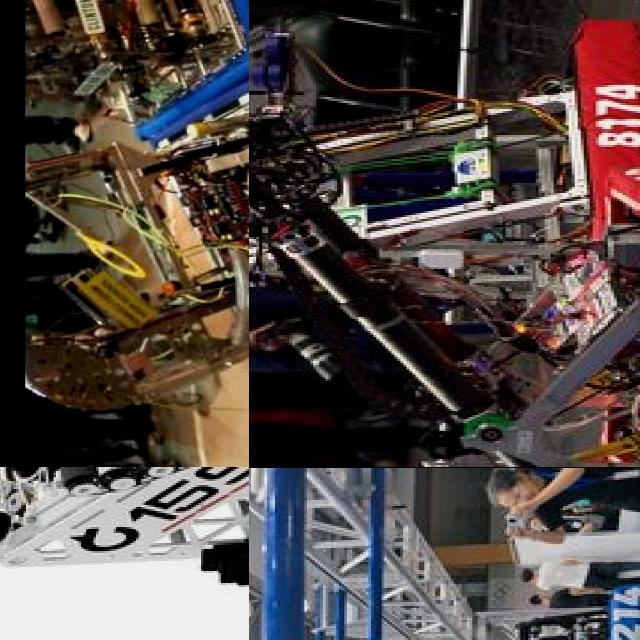FRC-Robots: (249, 164, 640, 467), (249, 0, 640, 263), (50, 87, 249, 467), (0, 467, 249, 621), (0, 0, 249, 138), (307, 550, 640, 640)
